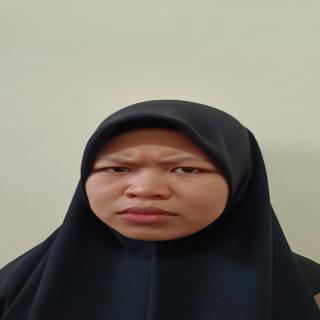Marah: (75, 121, 239, 248)
